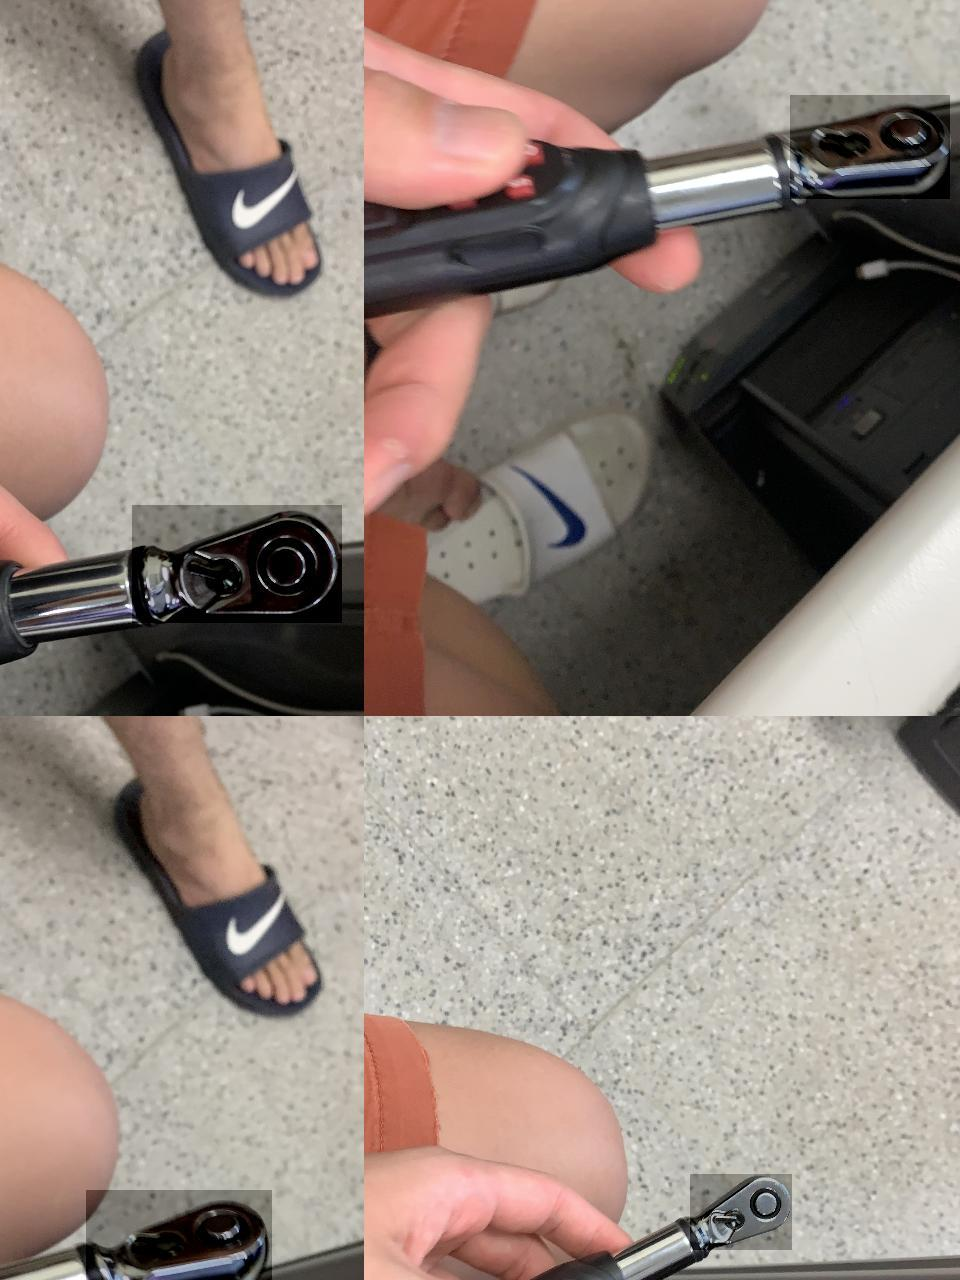Tool: (131, 504, 341, 622), (85, 1189, 271, 1280), (789, 94, 949, 198), (689, 1173, 791, 1249)
